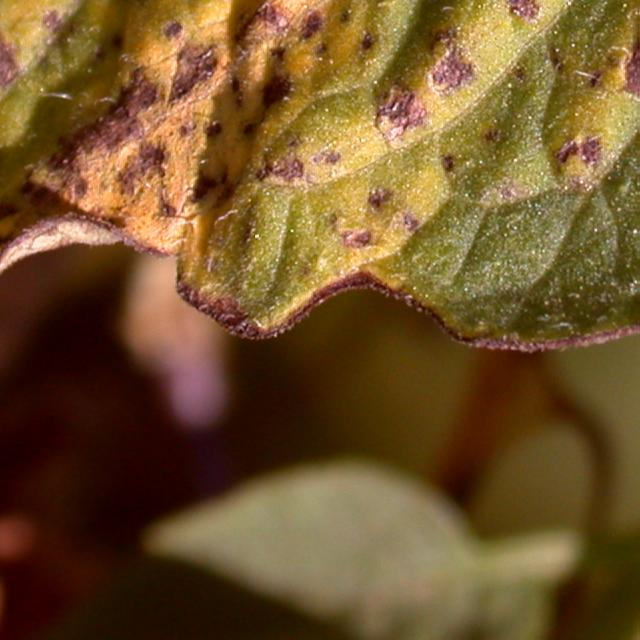Tomato leaf bacterial spot: (0, 0, 640, 317)
